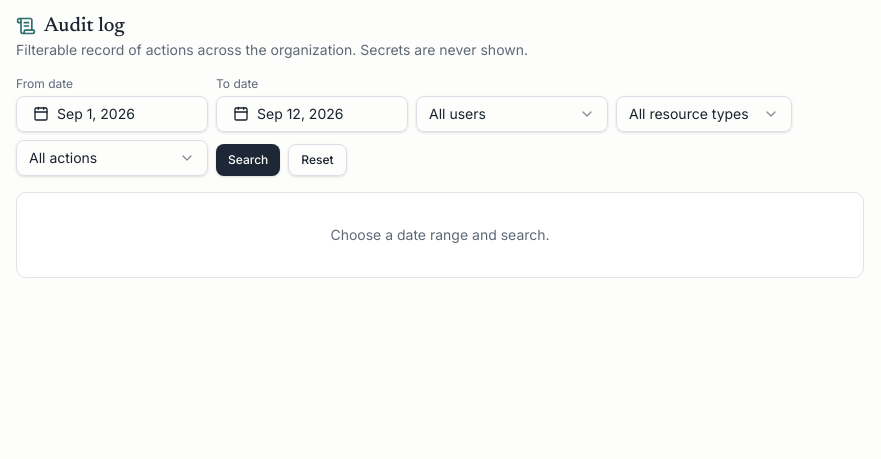
Test: AdminAudit › renders a loading skeleton after Search before the first page resolves
The image size is (881, 459).
Click the button "Search" at (248, 160), box [216,144,280,176]
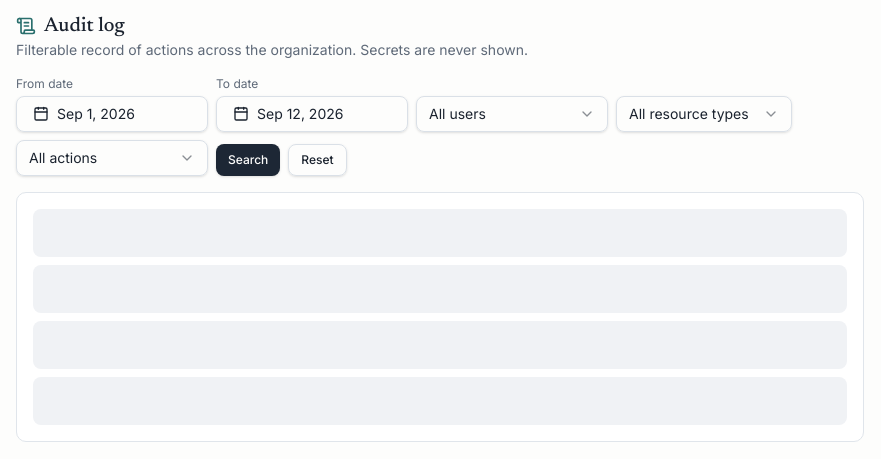
Expected: the element named "Loading…" is shown, [16,192,864,442]
